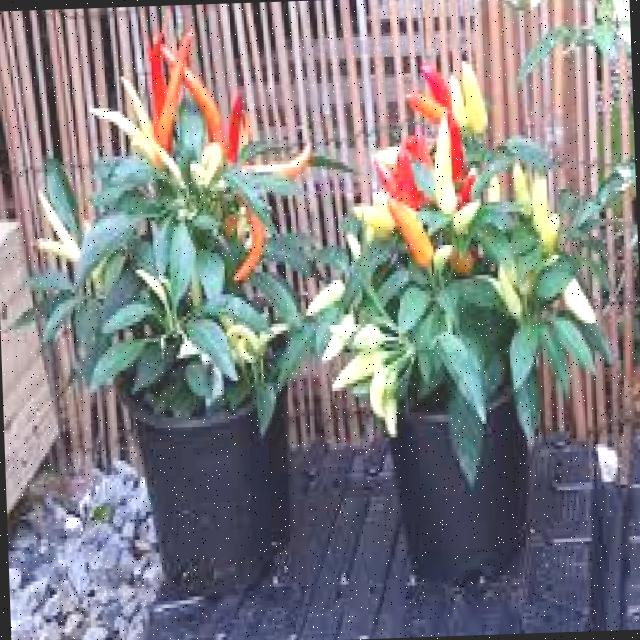healthy: (25, 4, 314, 464), (320, 22, 586, 499)
